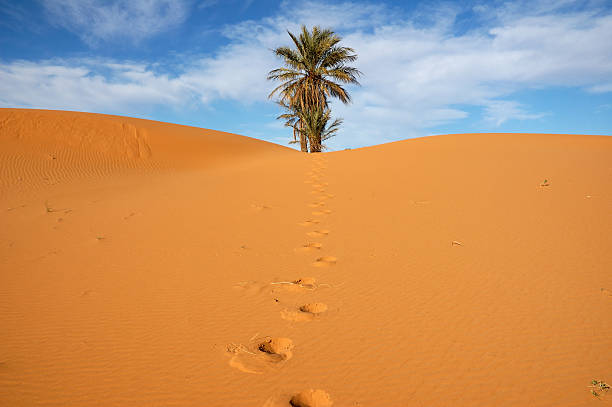human_foot_print: (226, 337, 293, 373), (262, 389, 332, 406), (280, 302, 327, 321), (269, 277, 318, 294), (290, 389, 332, 406), (295, 242, 322, 251), (312, 256, 336, 266), (306, 229, 329, 236), (298, 219, 319, 225), (311, 209, 332, 215), (308, 201, 325, 207), (601, 288, 611, 296)
